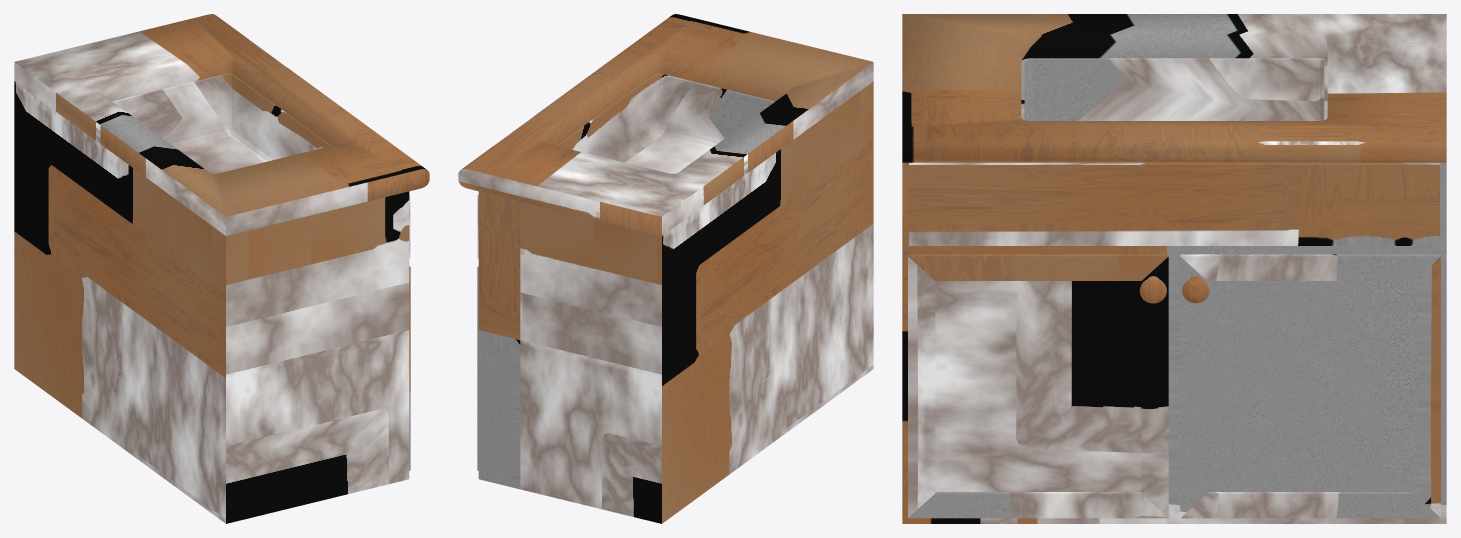
File: Sink.glb
3 views of the same model, side by side, from view 1: azimuth 30°, elevation 25°; view 2: azimuth 150°, elevation 25°; view 3: azimuth 270°, elevation 25° (orthographic). The views are drawn at different scales.
Visible parts, largest first — view 1: mesh; view 2: mesh; view 3: mesh.
Part boxes in pixels (box(x1,y1,x2,y2)): mesh: box(14, 14, 429, 523); mesh: box(458, 14, 873, 523); mesh: box(902, 14, 1446, 523).
Size of the model in its own units: 2.24 by 3.2 by 4.
1 material, 1 textured.
